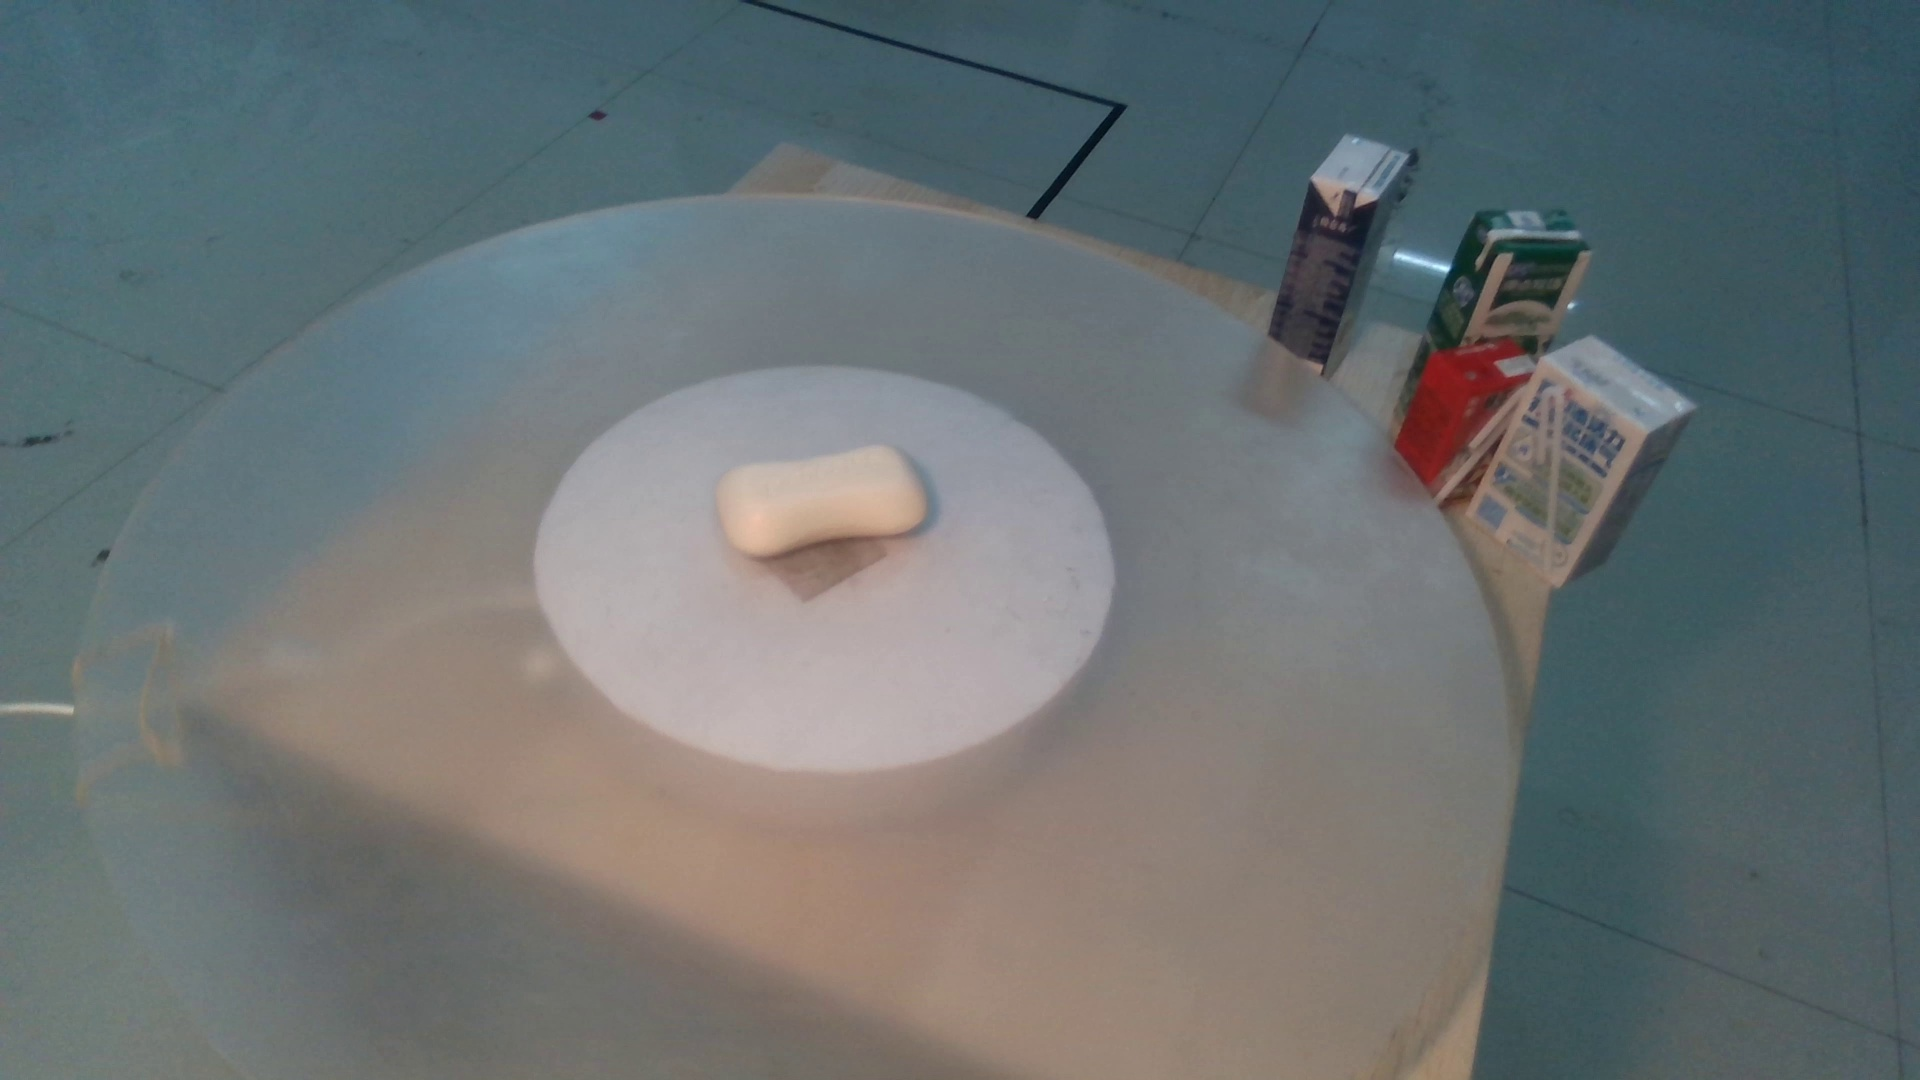CA003_1: (687, 417, 938, 613)
